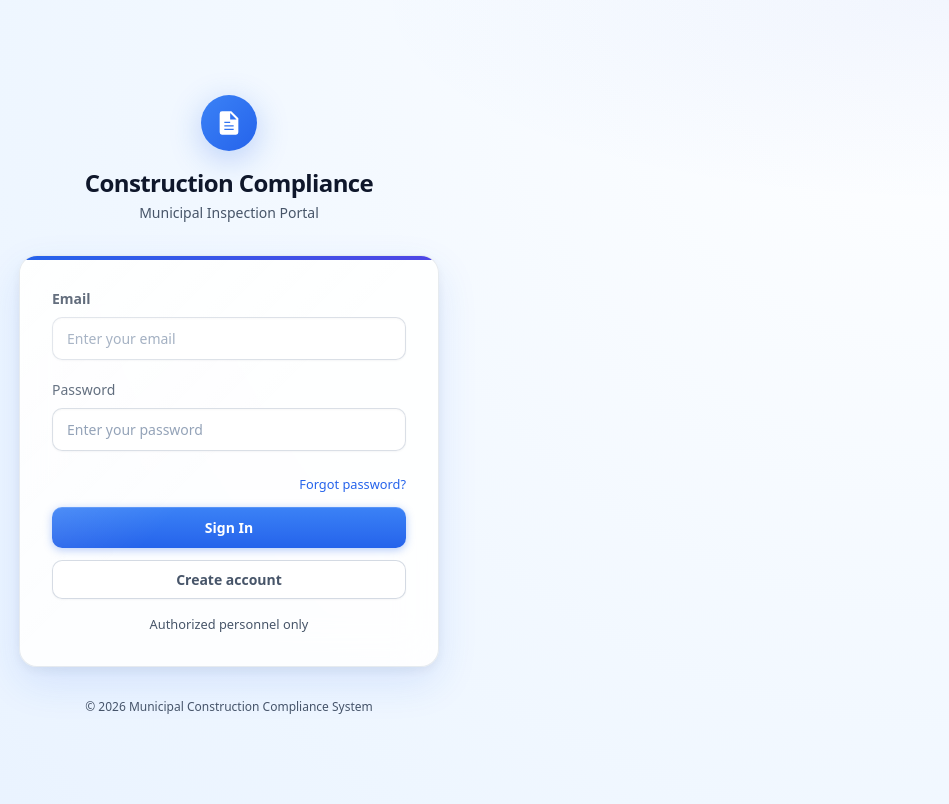
Test case: Login › shows a response message when login returns no token
In the field with placeholder "Enter your email": (229, 338) [52, 317, 406, 360], type "inspector@example.com"
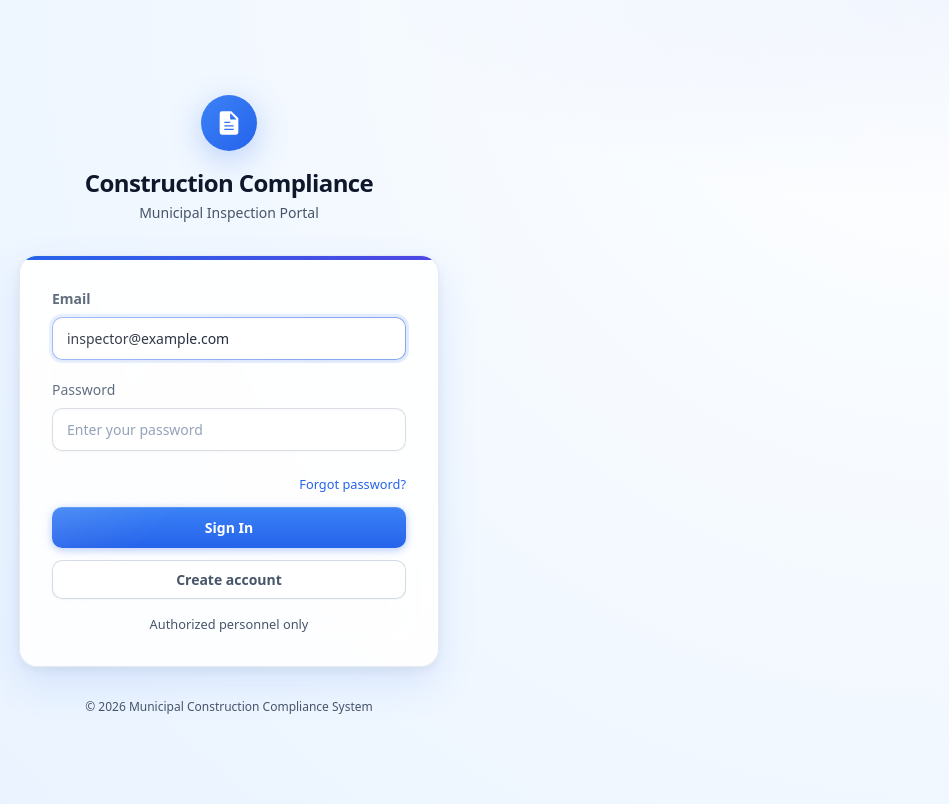
In the password field labelled "Password": (229, 429) [52, 408, 406, 451], type "Password123!"
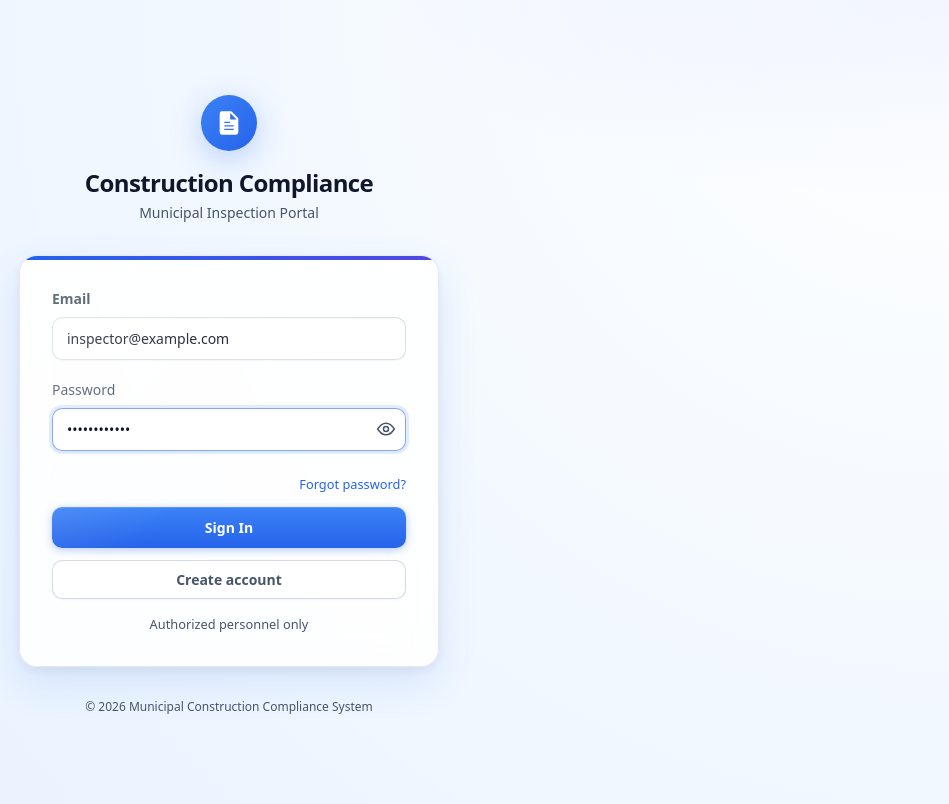
Click the button "Sign In": (229, 527) [52, 507, 406, 548]
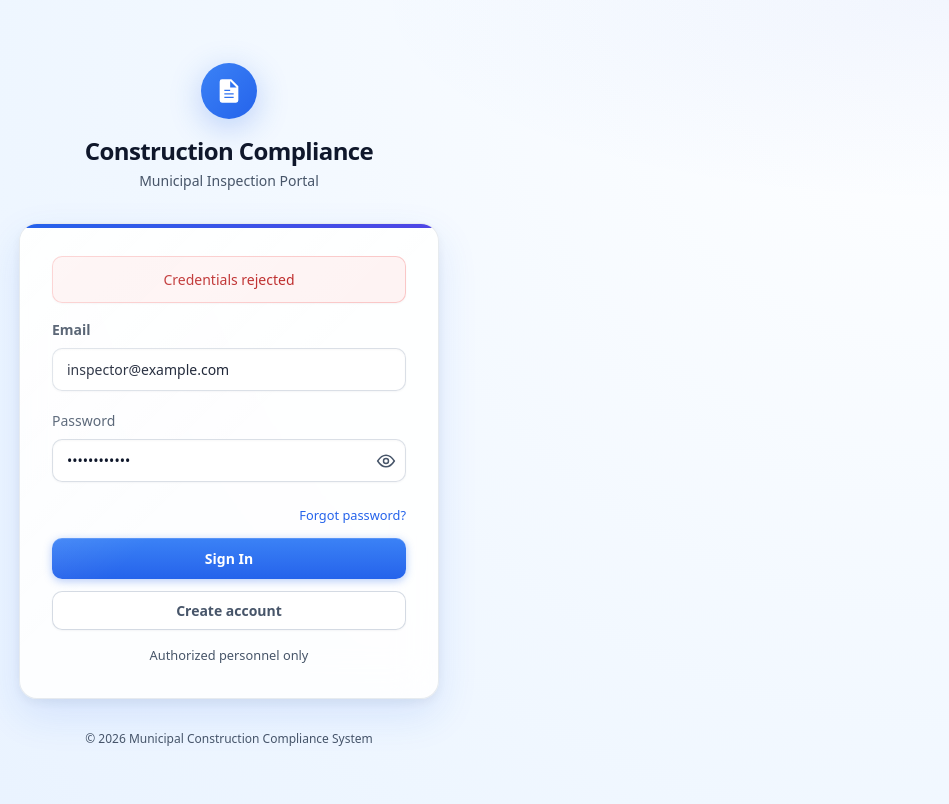
Expected: the text "Credentials rejected" is shown, [52, 256, 406, 303]
